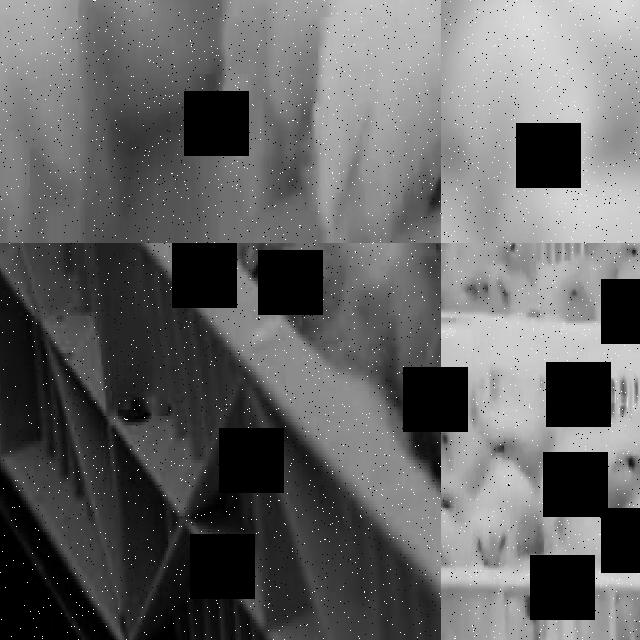chicks: (441, 70, 594, 243), (0, 6, 105, 243), (313, 62, 441, 243), (222, 0, 326, 201), (222, 243, 346, 300), (441, 400, 484, 475), (467, 517, 518, 570), (556, 494, 603, 546), (493, 415, 537, 465), (599, 447, 640, 487), (441, 510, 464, 575), (560, 278, 588, 320), (579, 243, 621, 269), (619, 243, 640, 280), (496, 284, 521, 310), (494, 243, 527, 261), (441, 243, 474, 261), (441, 287, 459, 316), (463, 281, 490, 300), (526, 299, 546, 323)
